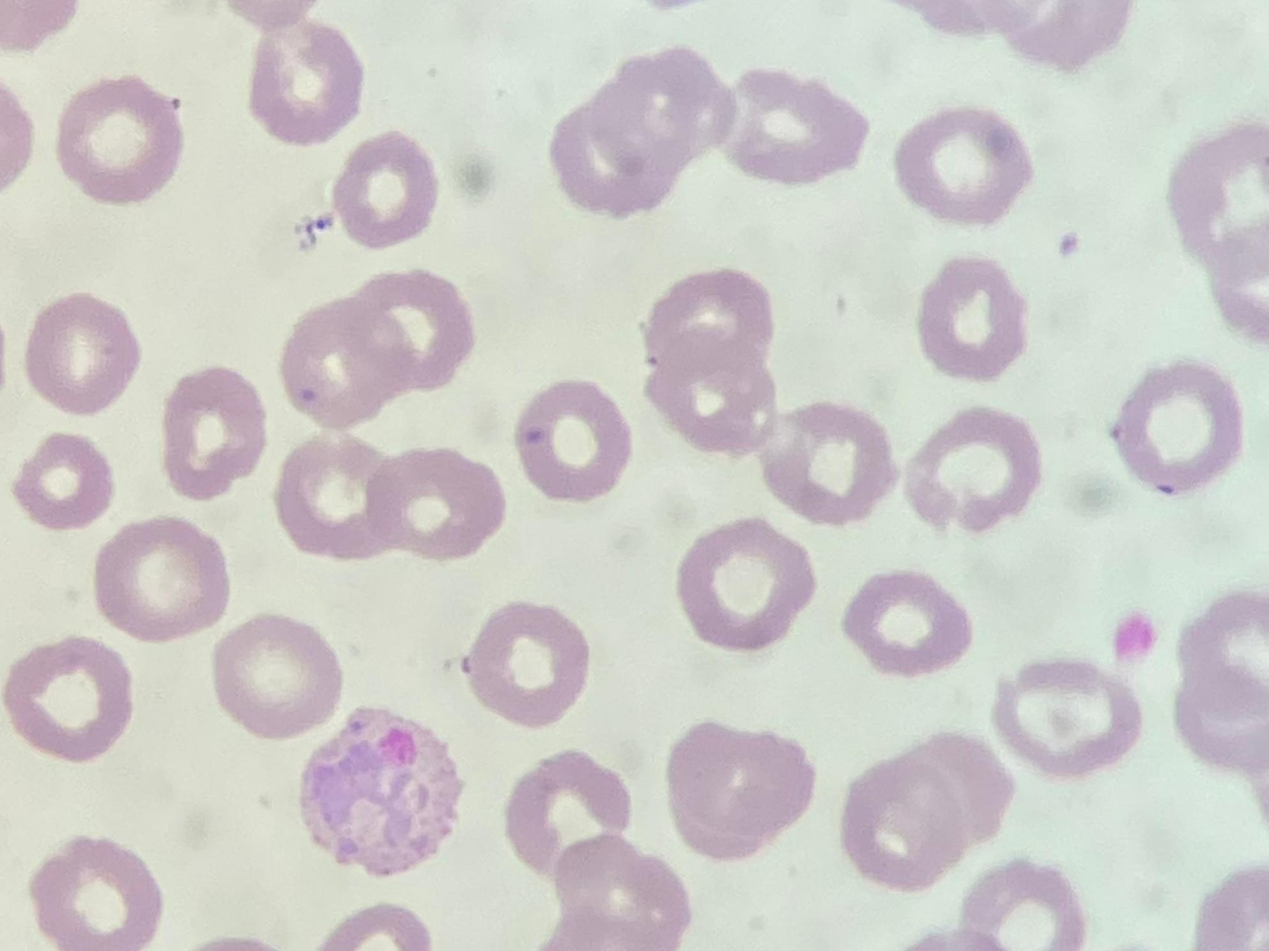Infected: (806, 75, 967, 240)
Uninfected: (452, 90, 603, 228), (21, 454, 157, 589), (1, 171, 98, 358), (456, 298, 594, 427), (226, 416, 365, 543), (541, 781, 682, 902), (297, 61, 427, 191), (579, 1, 728, 114), (374, 424, 511, 545), (1135, 185, 1265, 312), (236, 724, 373, 844), (402, 767, 545, 881), (636, 75, 764, 202), (866, 390, 996, 515), (131, 178, 278, 288), (1084, 745, 1210, 873), (591, 736, 716, 864), (924, 211, 1056, 332), (763, 388, 900, 504), (678, 222, 805, 347), (796, 559, 927, 680), (1039, 309, 1169, 430), (1, 685, 104, 832), (295, 271, 429, 383), (251, 101, 379, 217), (1107, 0, 1239, 112), (873, 521, 990, 647), (904, 805, 1022, 929), (239, 569, 356, 692), (1127, 534, 1243, 656), (638, 447, 756, 565), (495, 497, 620, 607), (1001, 452, 1107, 581), (495, 578, 624, 682), (828, 702, 941, 819), (188, 0, 312, 90), (1153, 417, 1259, 517)
